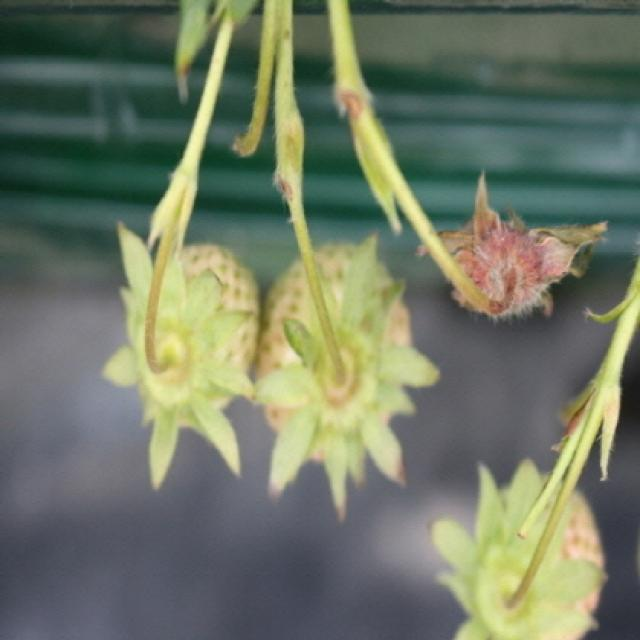Gray Mold: (415, 169, 611, 318)
